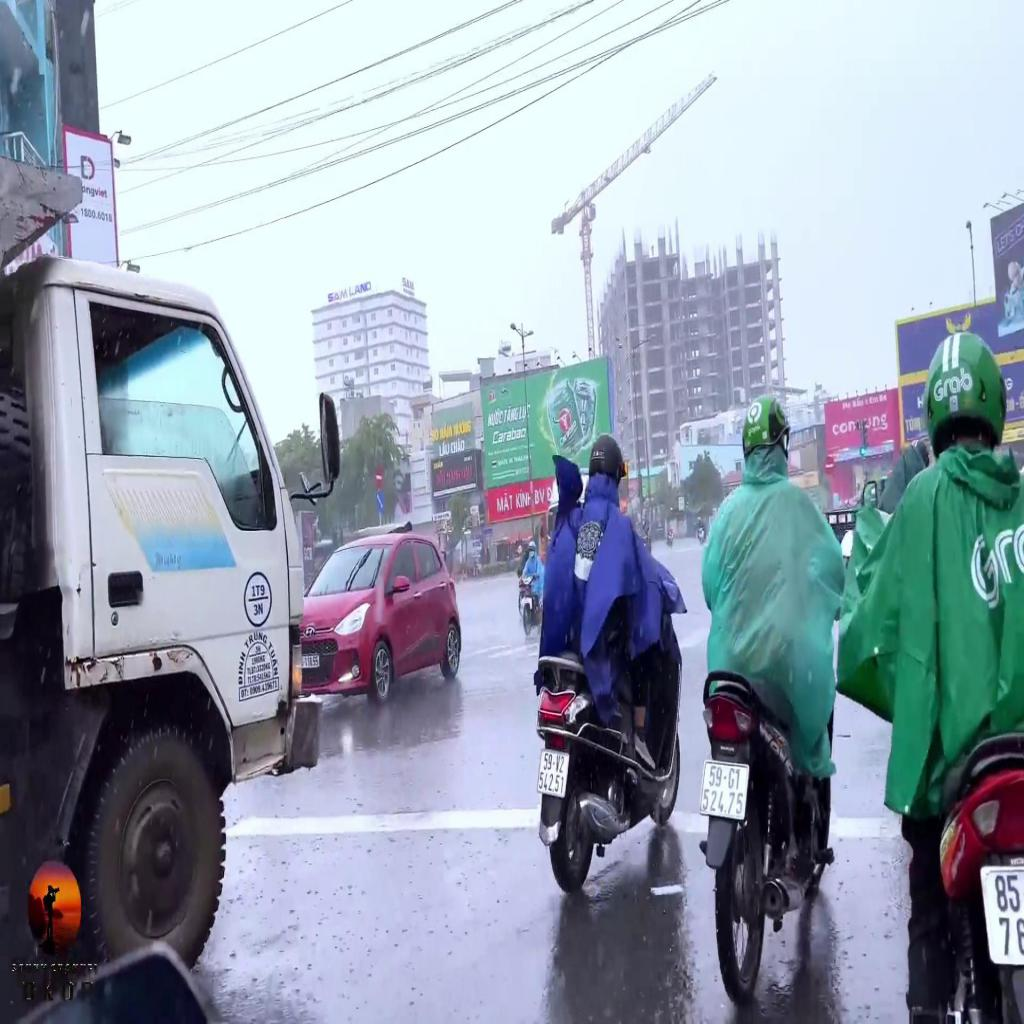cam_xe_di_nguoc_chieu: (375, 465, 383, 488)
huong_phai_di_vuot_chuong_ngai_vat_phai: (376, 491, 384, 512)
